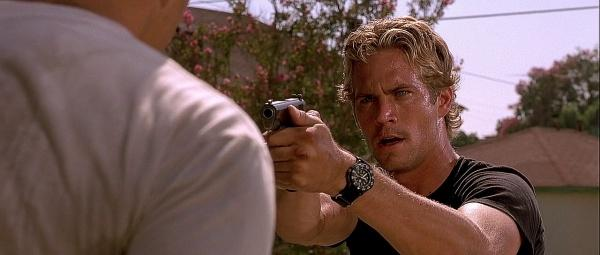Gun: (262, 94, 307, 133)
